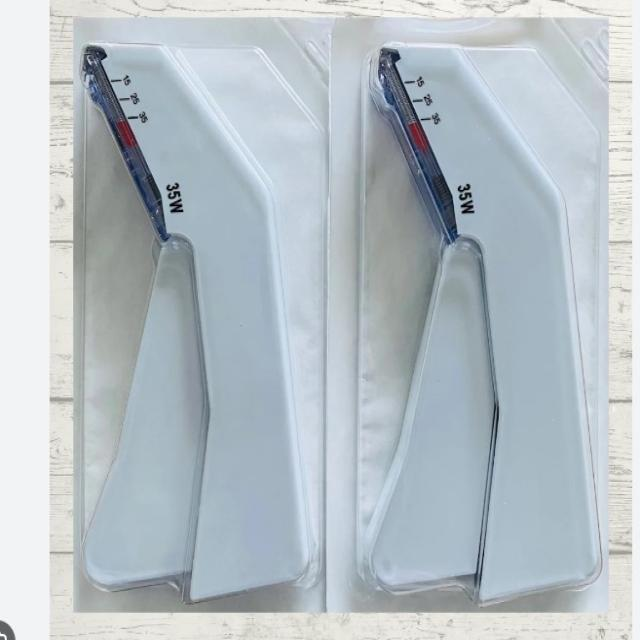Senn Retractor: (357, 42, 610, 610), (72, 42, 310, 596)
